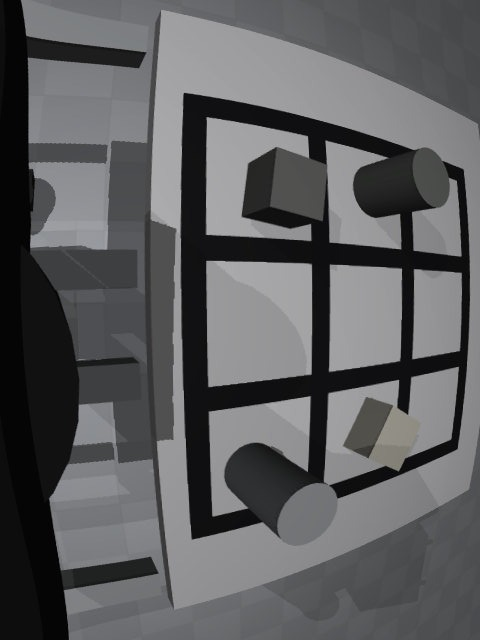can: (224, 443, 338, 546)
cube: (242, 147, 328, 229)
cylinder: (353, 147, 450, 218)
foam: (343, 397, 421, 472)
